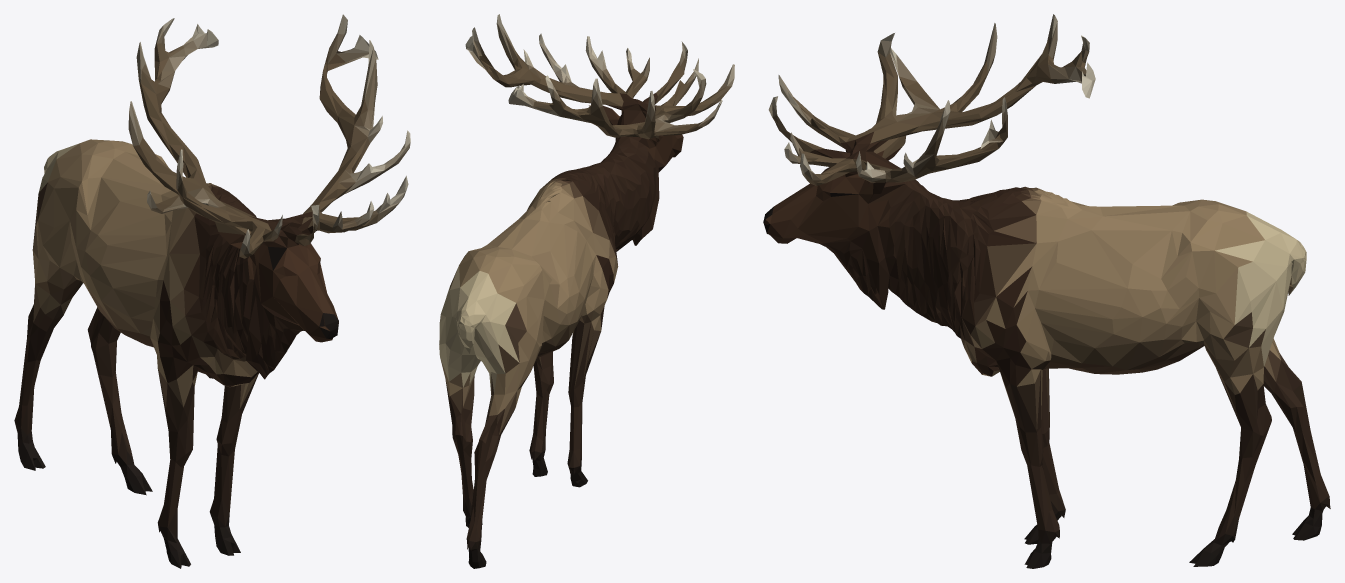
File: elk_bull.glb
3 views of the same model, side by side, from view 1: azimuth 30°, elevation 25°; view 2: azimuth 150°, elevation 25°; view 3: azimuth 270°, elevation 25° (orthographic). The views are drawn at different scales.
Visible parts, largest first — view 1: lod0; view 2: lod0; view 3: lod0.
Part boxes in pixels (left/top/right/bottom): lod0: left=14, top=14, right=410, bottom=568; lod0: left=439, top=14, right=734, bottom=568; lod0: left=763, top=14, right=1330, bottom=568.
Size of what is drawn, in the model's own units: 1.16 by 2.12 by 2.11.
